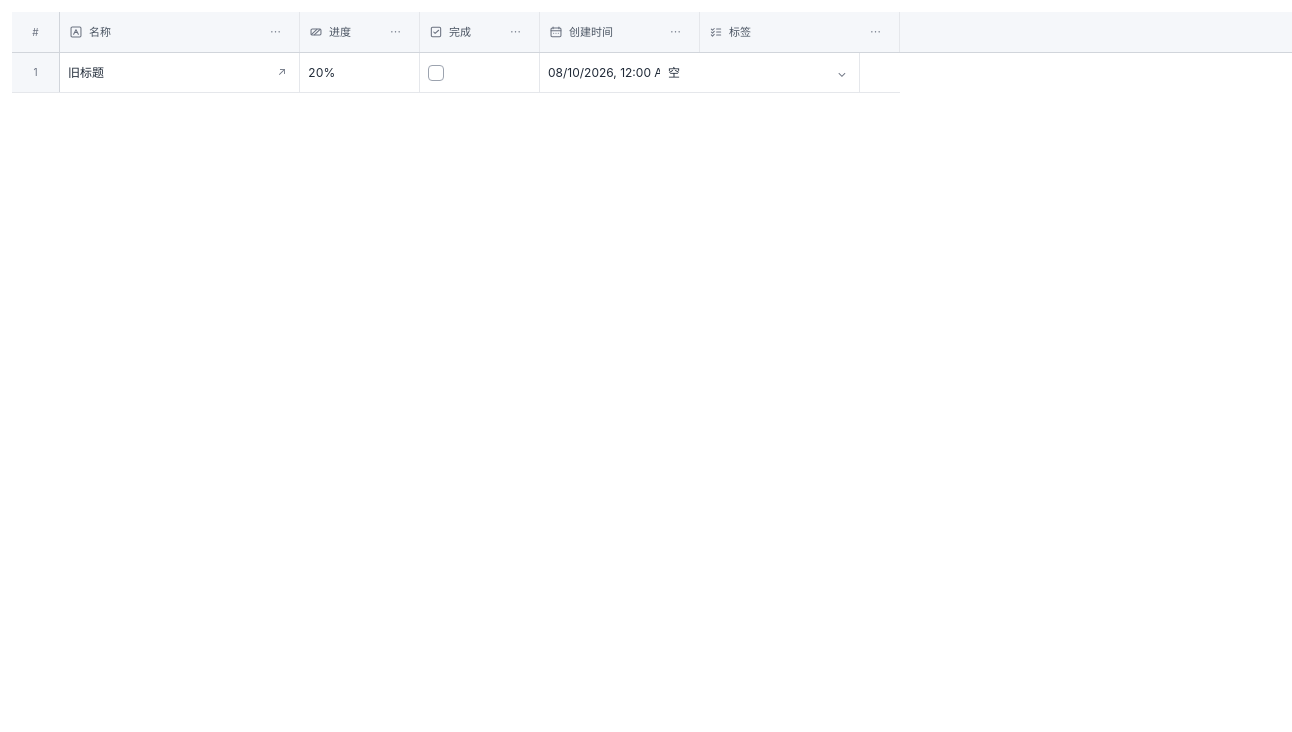
Test case: DataGrid Phase 37 交互 › 只读单元格选中后可通过聚焦网格复制当前值
Press the mouse on the cell "08/10/2026, 12:00 AM" at (611, 72), box [548,64,674,80]
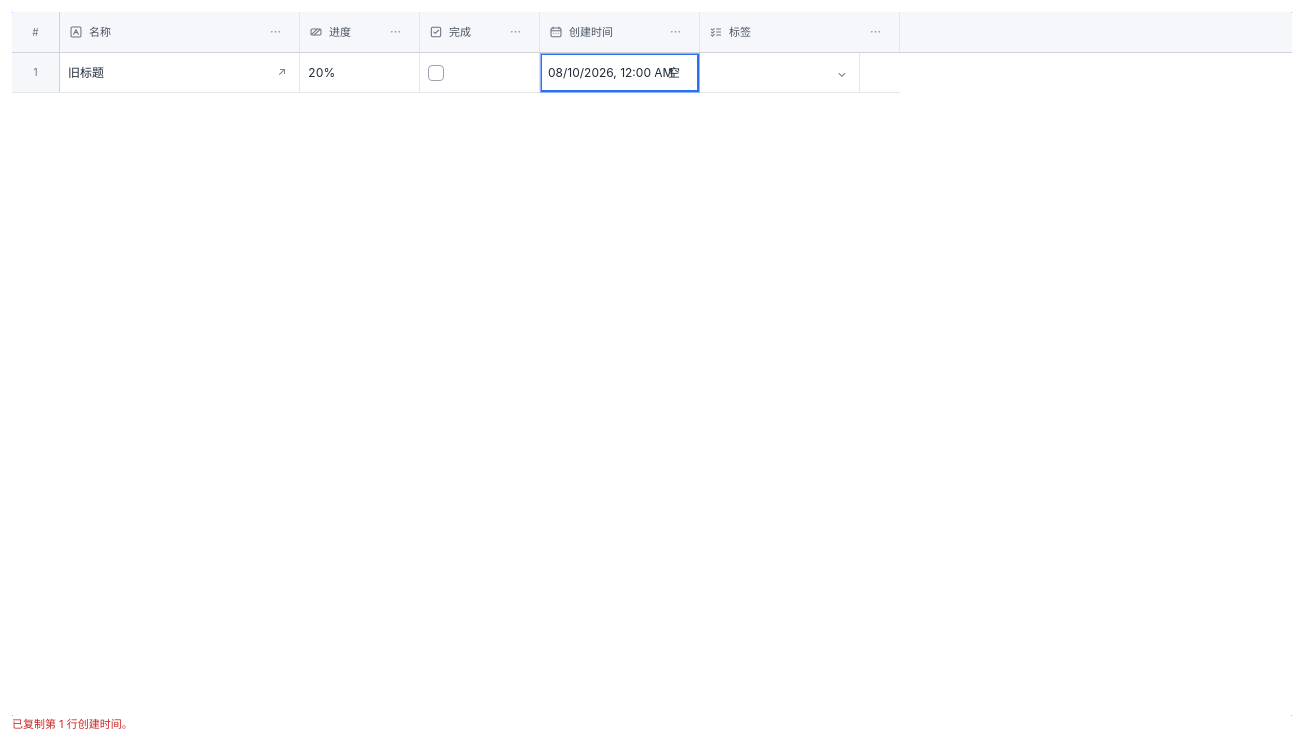
Expected: the text "已复制第 1 行创建时间。" is shown, [12,716,133,730]
